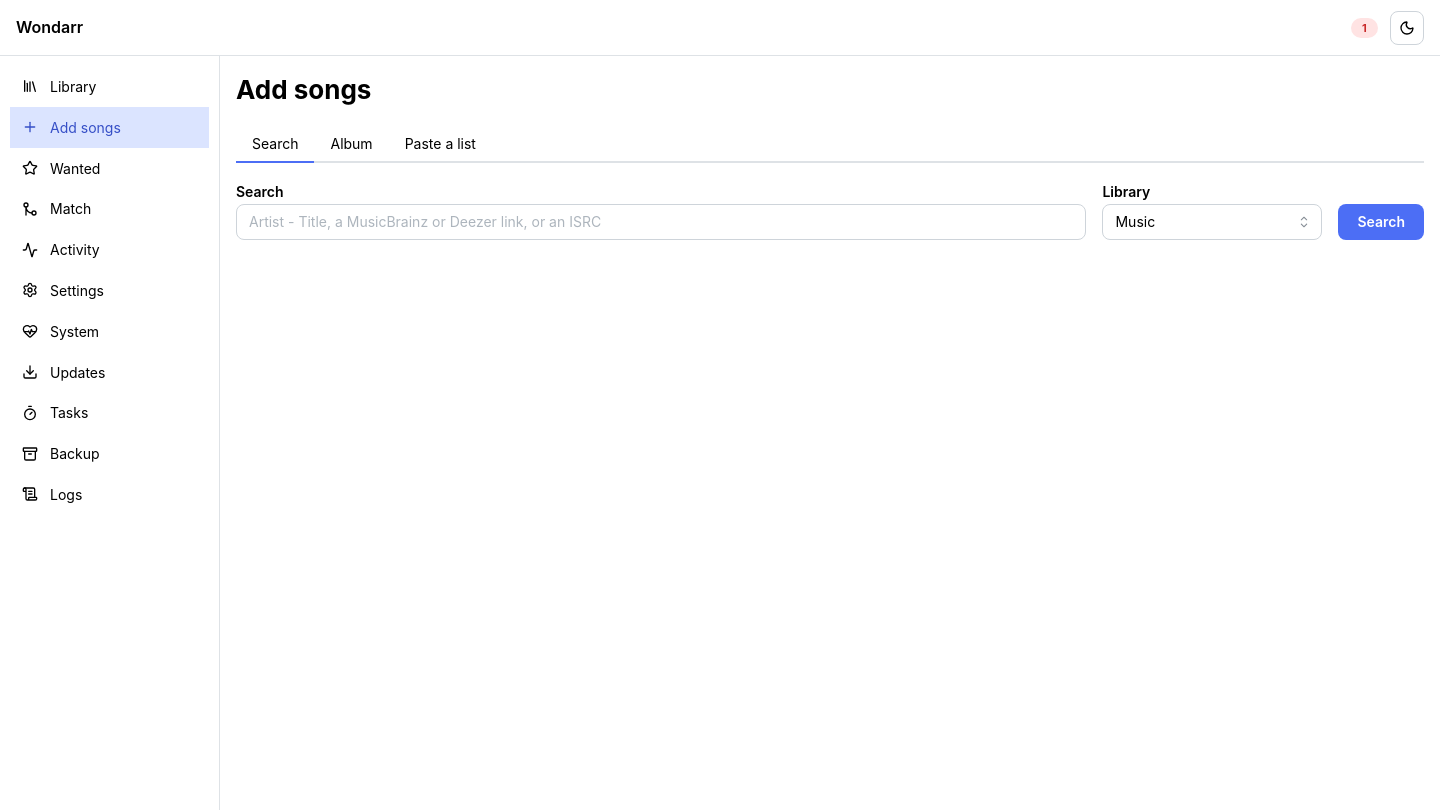
Test: AddSongsPage › offers the library picker once there are two libraries and sends the chosen one
Step 1. Type "Daft Punk - Get Lucky" into the field labelled "Search" → (661, 222), box top-left (236, 204), bottom-right (1086, 240)
Then press Enter
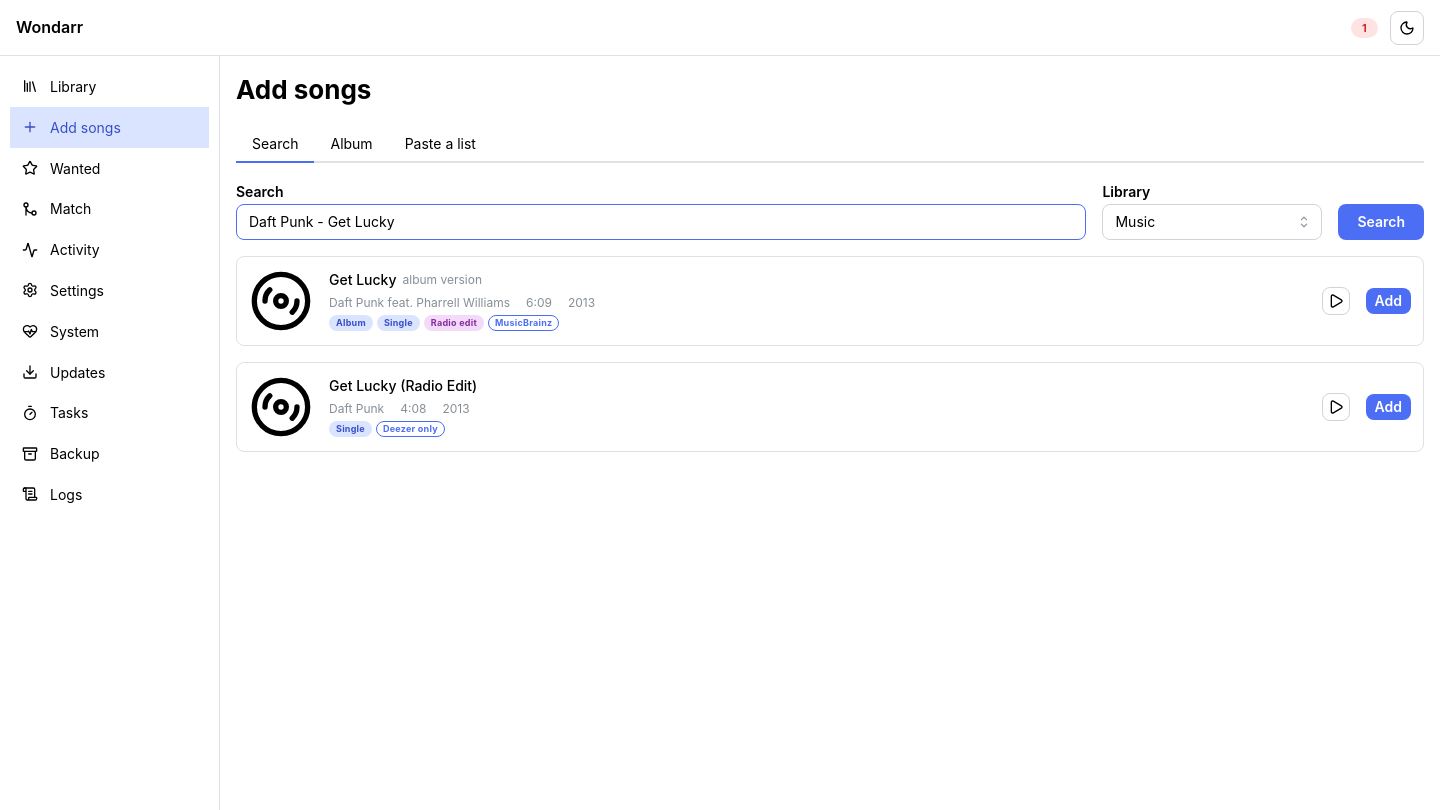
Expected: the text "album version" is shown, top-left (402, 272), bottom-right (482, 289)
Step 2. Click the dropdown labelled "Library" → (1212, 222), box top-left (1102, 204), bottom-right (1322, 240)
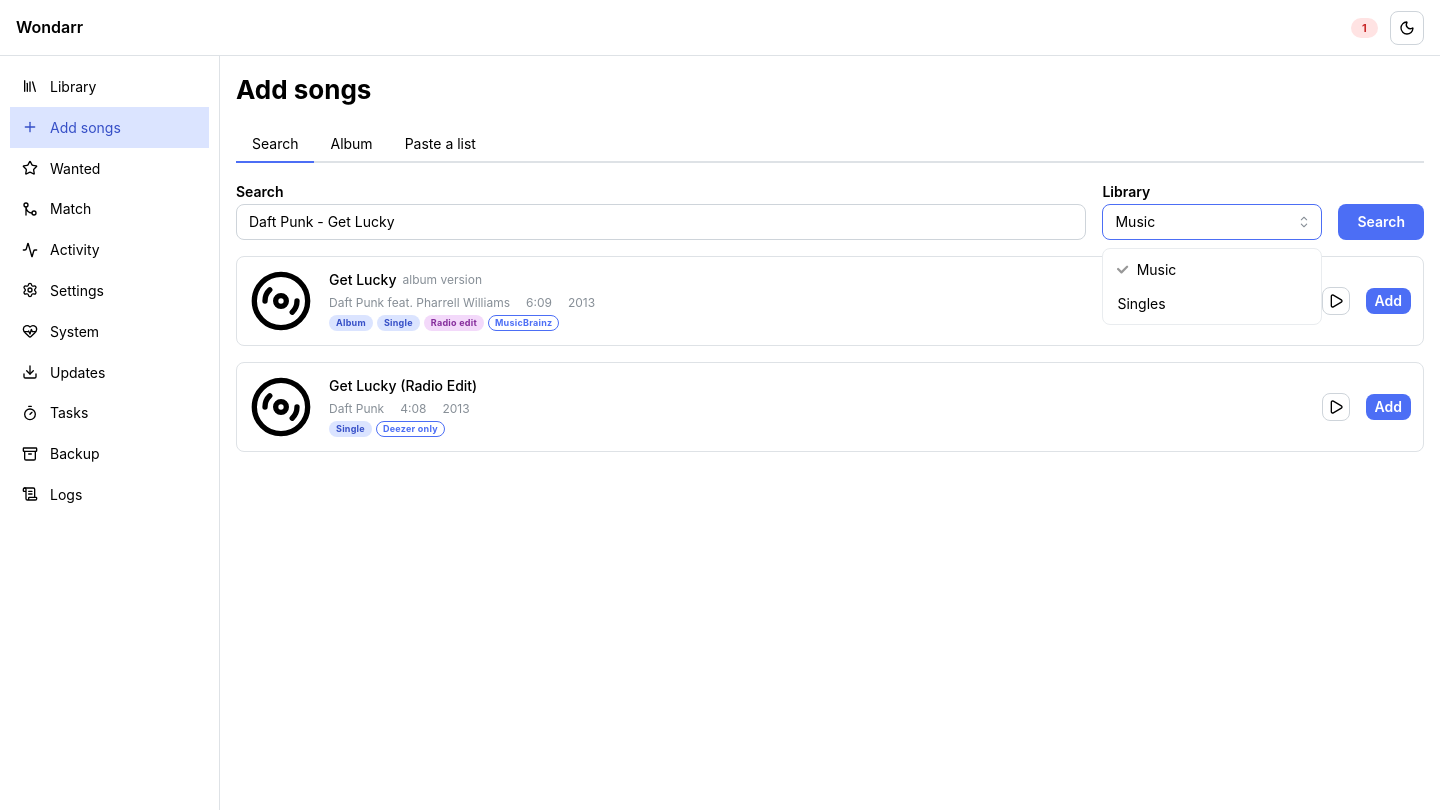
Step 3. Click the option "Singles" → (1142, 303), box top-left (1118, 295), bottom-right (1166, 312)
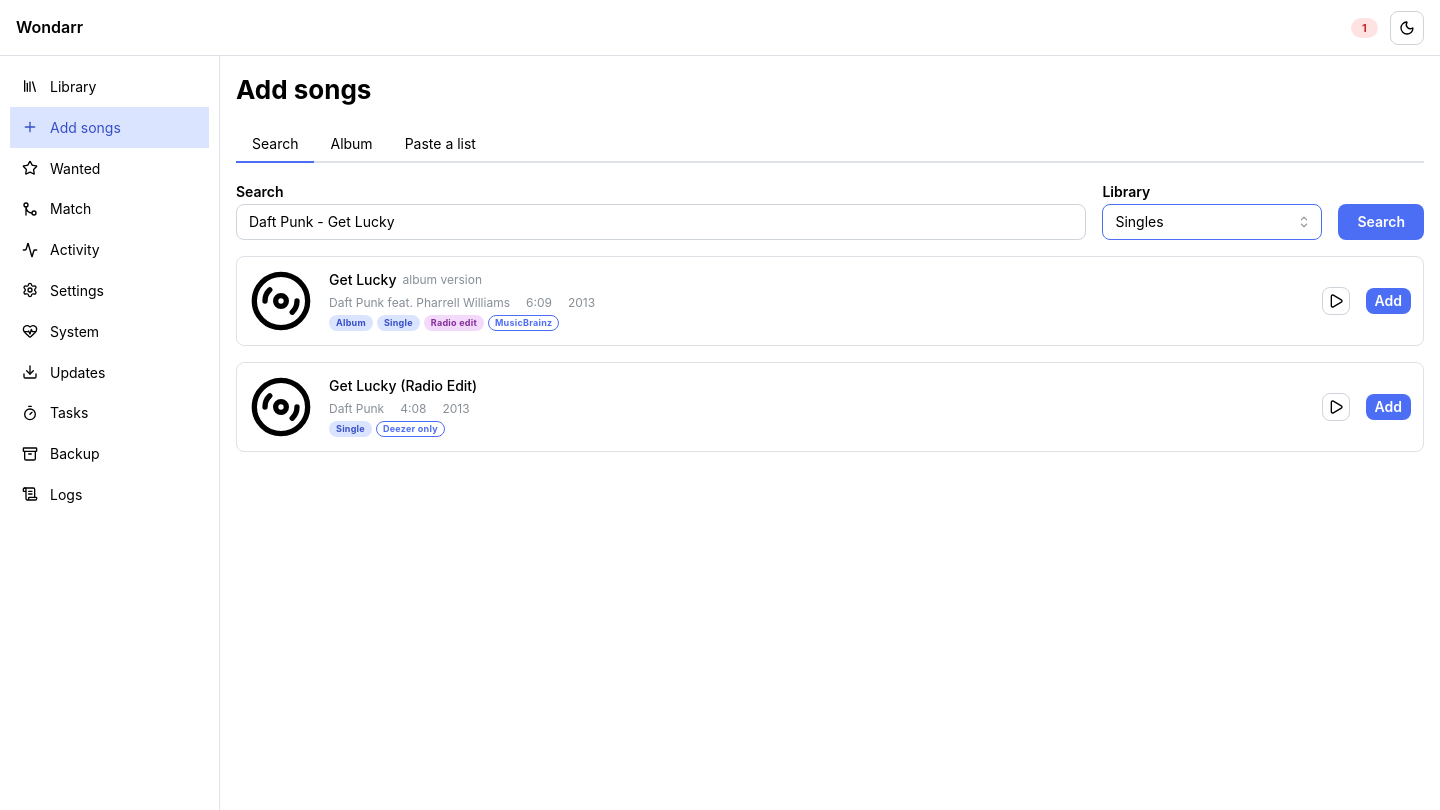
Step 4. Click the button "Add" in the row of "6:09" → (1388, 301), box top-left (1366, 288), bottom-right (1411, 314)
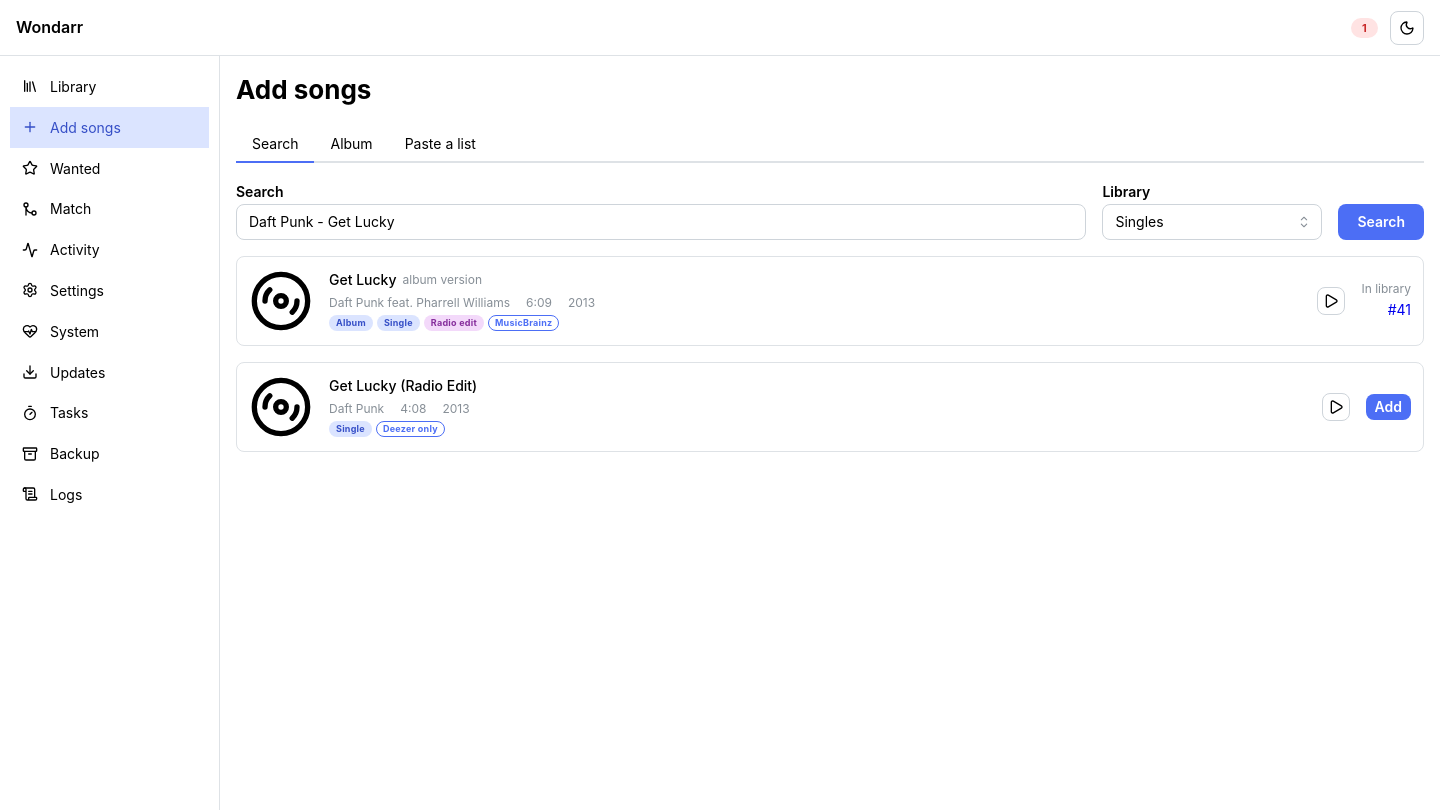
Expected: the text "In library" is shown, top-left (1361, 281), bottom-right (1411, 298)
